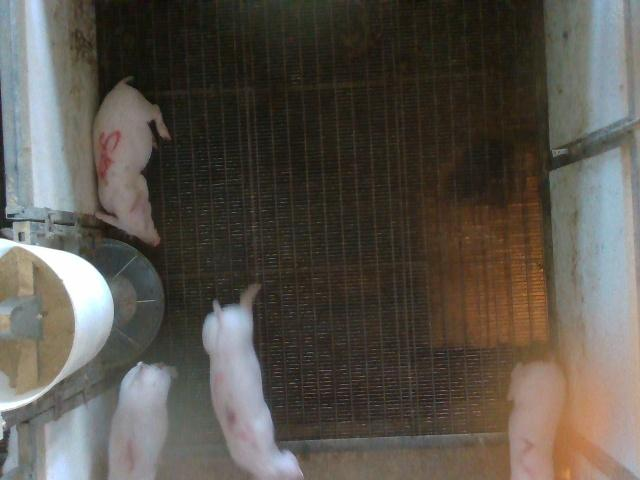pig-1: (108, 362, 171, 478)
pig-2: (508, 354, 564, 478)
pig-3: (202, 284, 302, 479)
pig-5: (92, 76, 170, 247)
